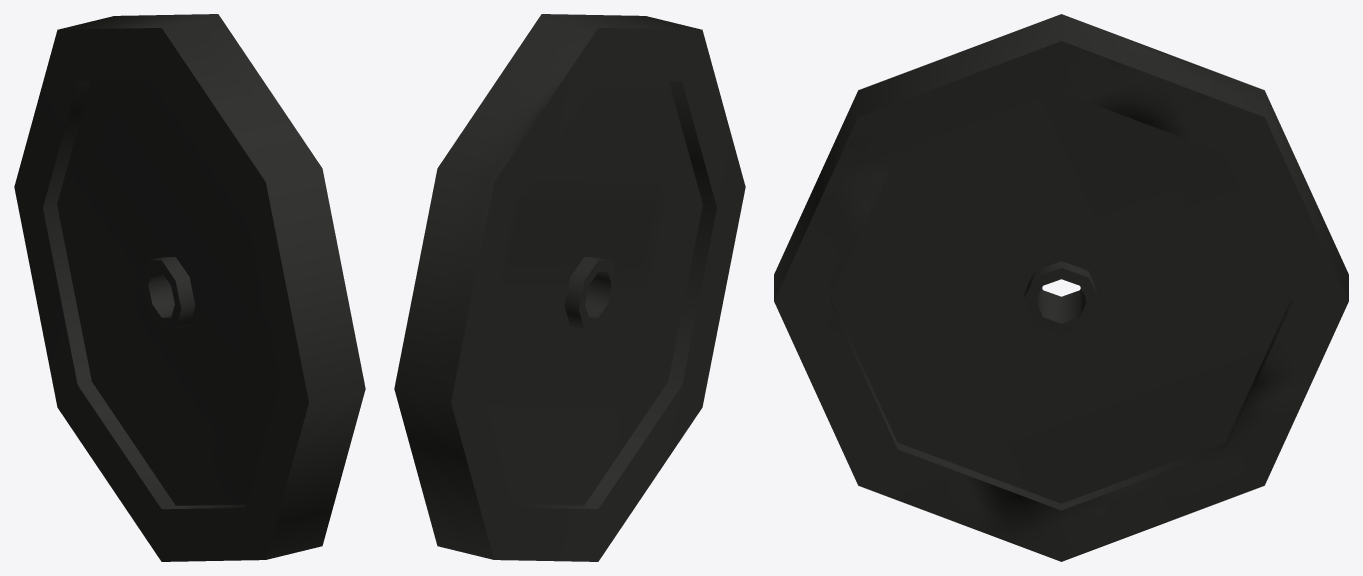
The model's file is weight-plate.glb.
The picture shows the model from 3 angles, left to right: view 1: azimuth 30°, elevation 25°; view 2: azimuth 150°, elevation 25°; view 3: azimuth 270°, elevation 25°; orthographic projection. The views are drawn at different scales.
Visible parts, largest first — view 1: weight_plate_10_gym_environment_0; view 2: weight_plate_10_gym_environment_0; view 3: weight_plate_10_gym_environment_0.
Boxes of the visible parts, box(x1,y1,x2,y2) form: weight_plate_10_gym_environment_0: box(14, 14, 365, 561); weight_plate_10_gym_environment_0: box(394, 14, 745, 561); weight_plate_10_gym_environment_0: box(774, 14, 1348, 561).
Bounding box in the file's own units: 0.05 × 0.45 × 0.45.
Materials: 1 (1 with a texture image).
